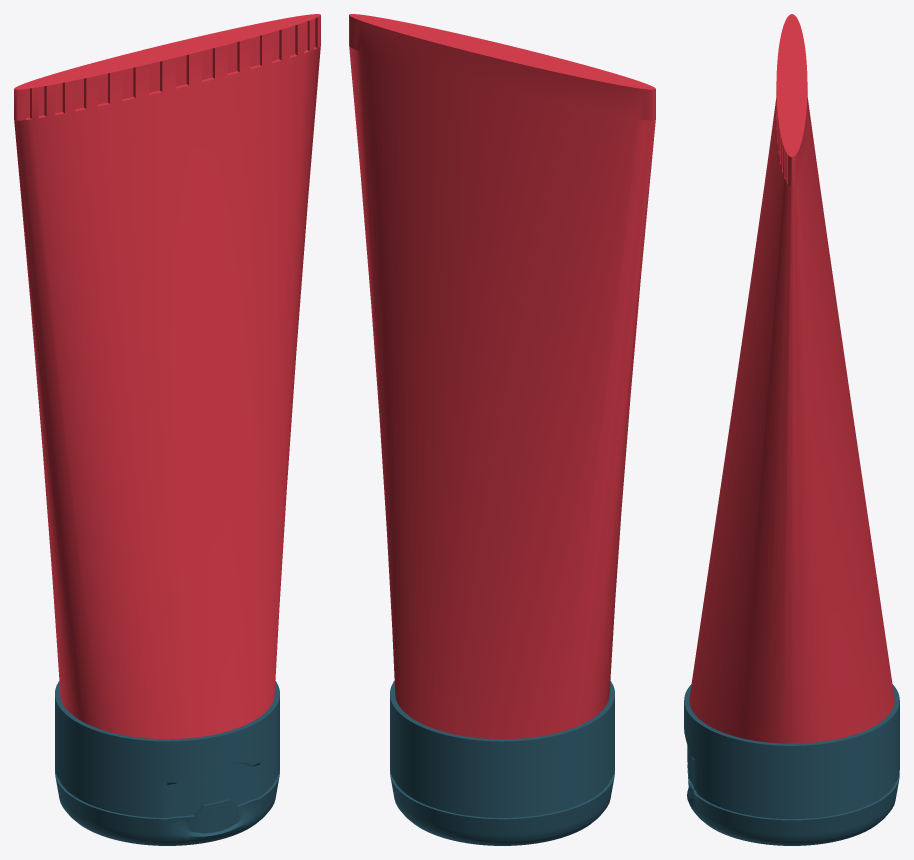
The model's file is facewash.glb.
The picture shows the model from 3 angles, left to right: view 1: azimuth 30°, elevation 25°; view 2: azimuth 150°, elevation 25°; view 3: azimuth 270°, elevation 25°; orthographic projection. The views are drawn at different scales.
Parts seen in each view (by area): view 1: FaceWash_Jar, FaceWash_Cap; view 2: FaceWash_Jar, FaceWash_Cap; view 3: FaceWash_Jar, FaceWash_Cap.
Part boxes in pixels (x1,y1,x2,y2): FaceWash_Jar: (14, 14, 320, 739); FaceWash_Cap: (55, 681, 279, 845); FaceWash_Jar: (349, 14, 655, 739); FaceWash_Cap: (390, 680, 614, 845); FaceWash_Jar: (689, 14, 894, 743); FaceWash_Cap: (684, 684, 899, 845).
Bounding box in the file's own units: 0.4923 × 1.15 × 0.3134.
